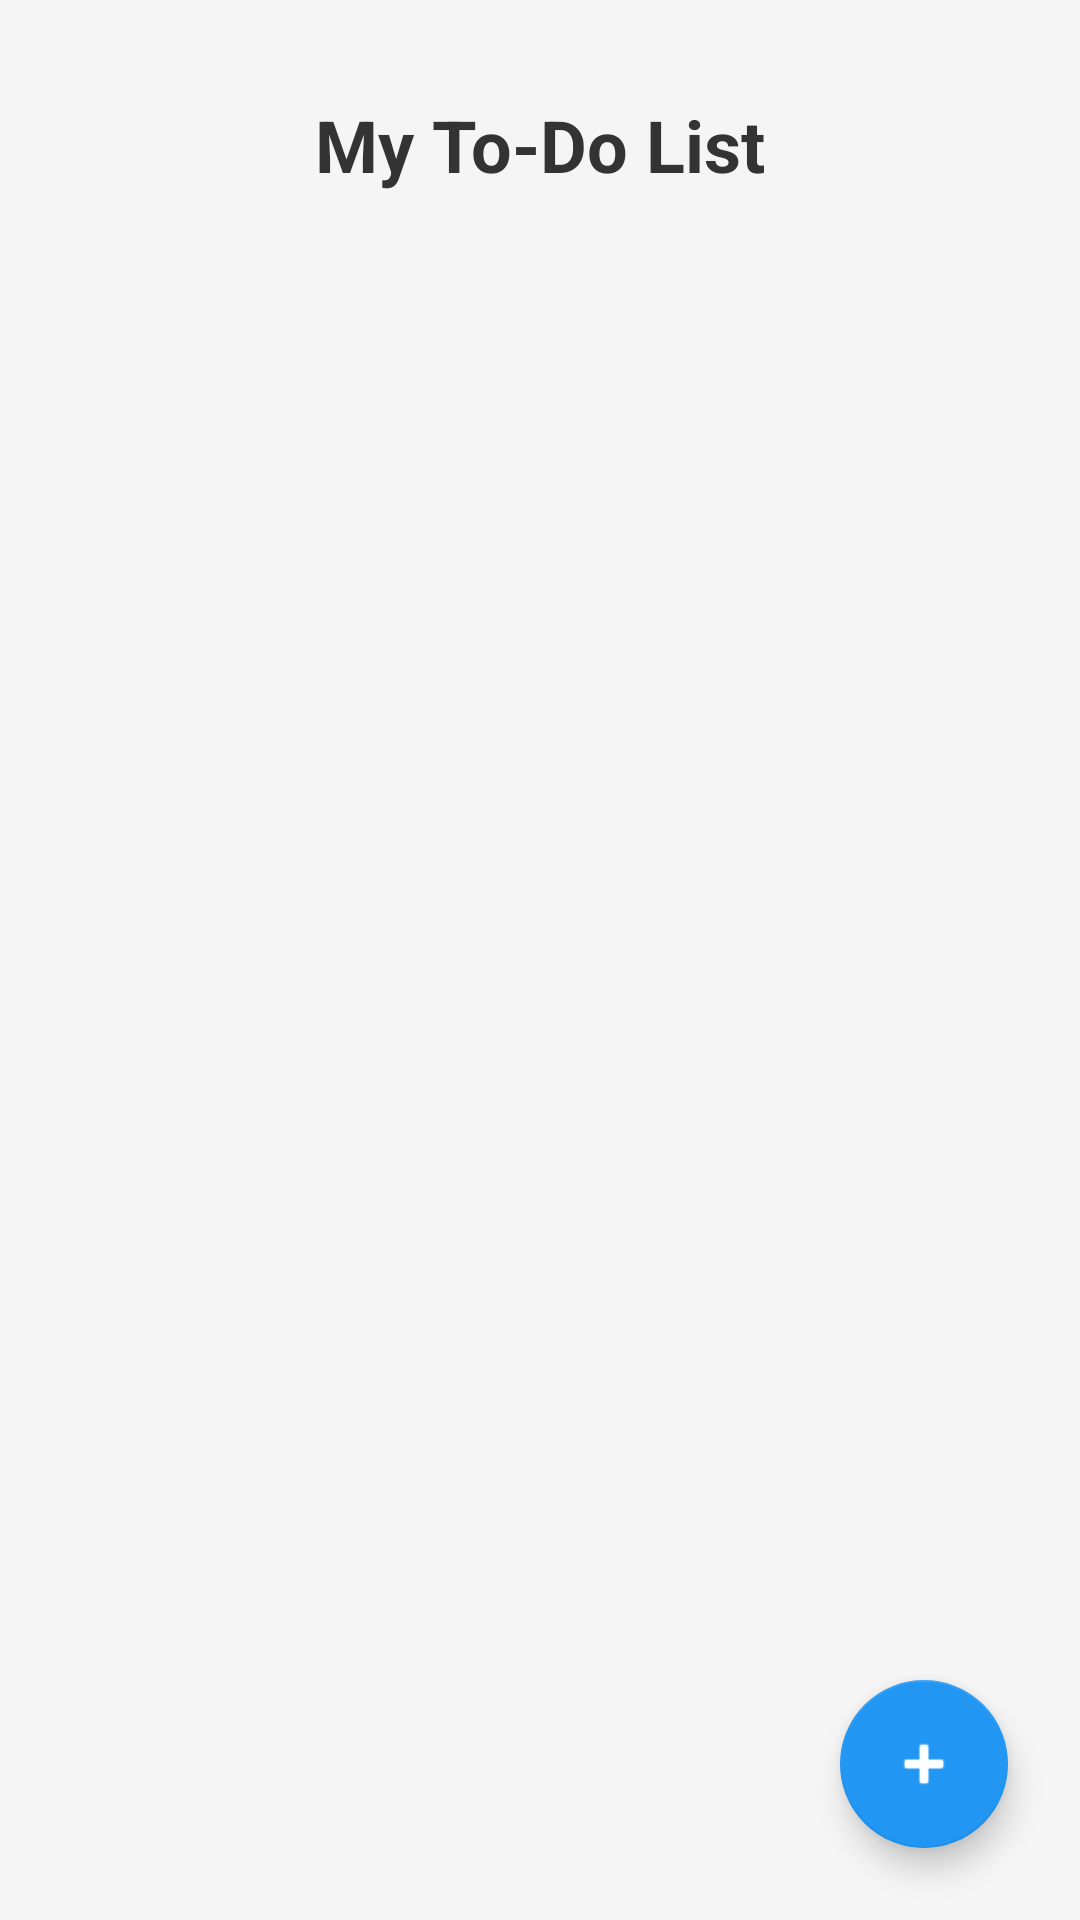

Locate icon controls on the screen. Image size 1080×1920, boxes as (x1, y1, x2, y2).
Add Task: (840, 1680, 1008, 1848)
